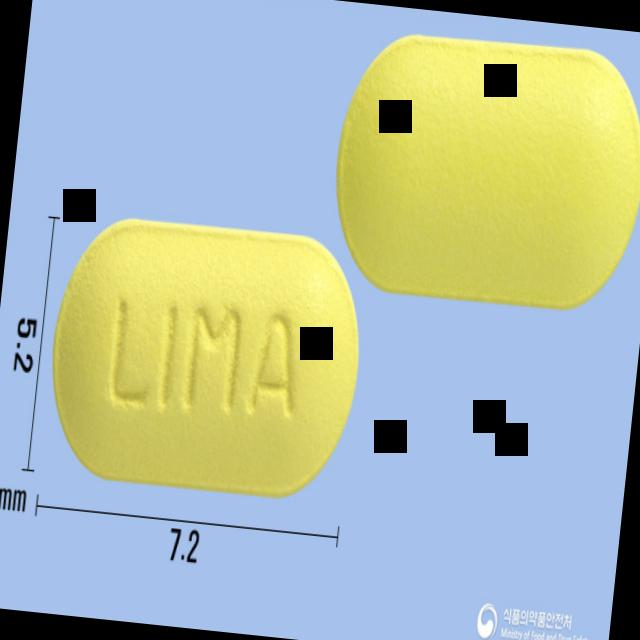Liamclo -250mg: (41, 210, 374, 507)
